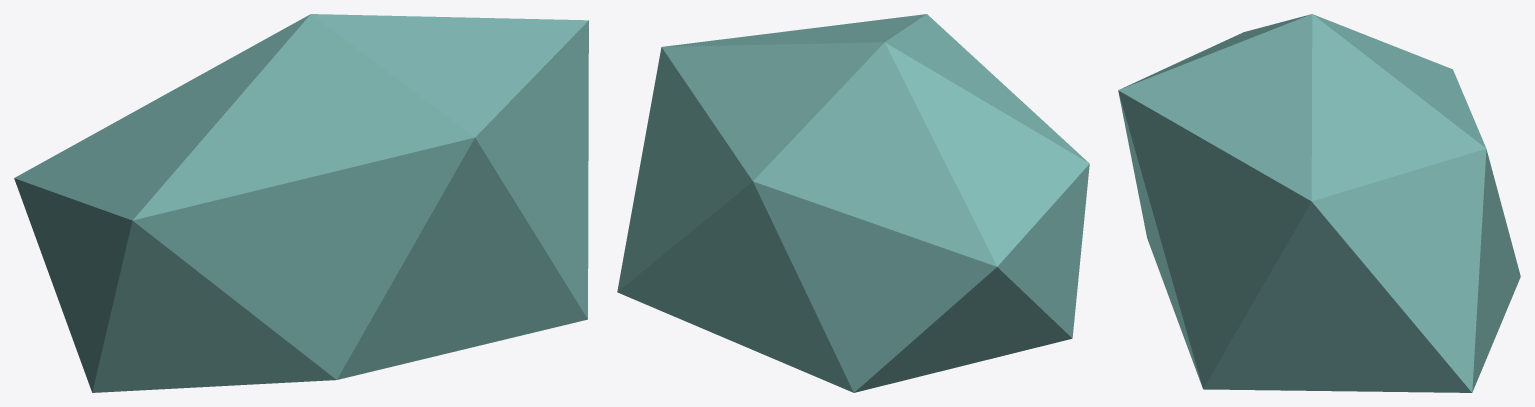
Rendered from Rock 1.fbx.
The picture shows the model from 3 angles, left to right: view 1: azimuth 30°, elevation 25°; view 2: azimuth 150°, elevation 25°; view 3: azimuth 270°, elevation 25°; orthographic projection. The views are drawn at different scales.
Parts seen in each view (by area): view 1: Rock; view 2: Rock; view 3: Rock.
Boxes of the visible parts, box(x1,y1,x2,y2) form: Rock: box(14, 14, 588, 392); Rock: box(617, 14, 1089, 392); Rock: box(1118, 14, 1520, 392).
Bounding box in the file's own units: 270 × 170 × 209.
